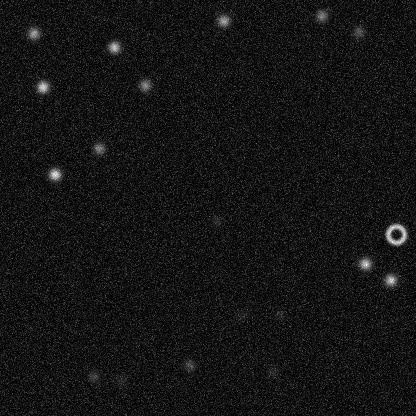Ring: (384, 222, 408, 246)
Spot: (113, 372, 129, 388), (271, 306, 287, 322), (264, 362, 280, 378), (382, 271, 398, 287), (234, 307, 250, 323), (357, 255, 373, 271), (350, 23, 366, 39), (136, 77, 152, 93), (34, 78, 50, 94), (215, 12, 231, 28), (208, 213, 224, 229), (46, 166, 62, 182), (313, 7, 329, 23), (90, 140, 106, 156), (181, 356, 197, 372), (106, 39, 122, 55), (25, 25, 41, 41), (85, 368, 101, 384)
